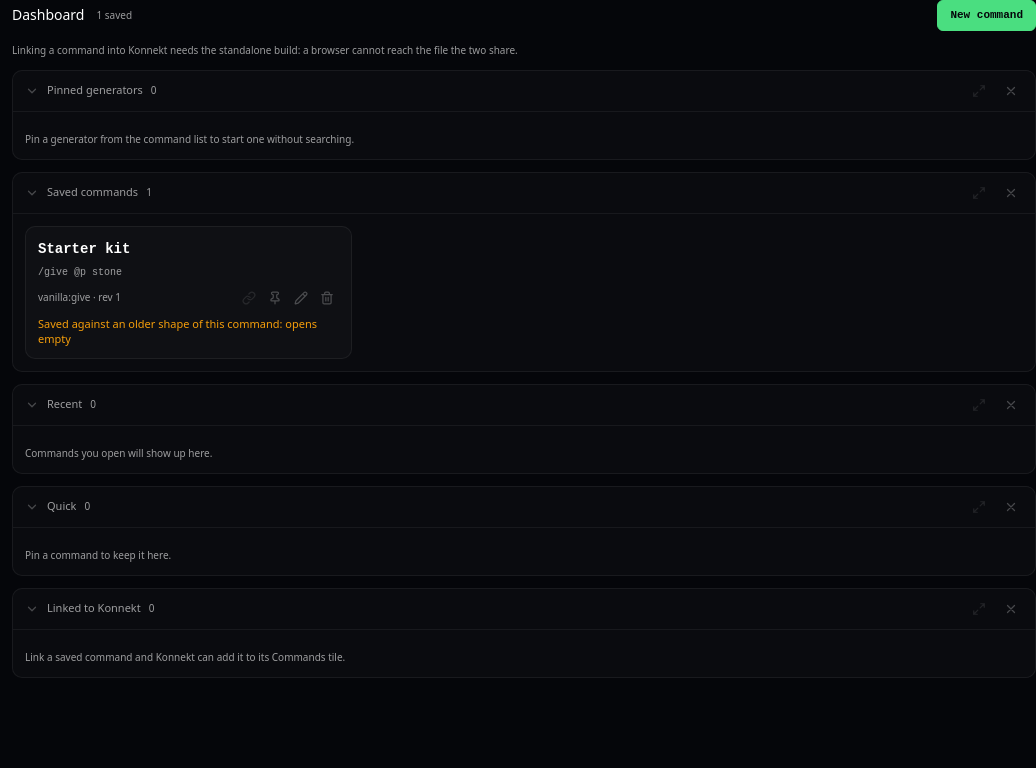
deleting a tile removes it from storage, not just from the screen
Click the button named "Delete Starter kit" at (327, 298), box [315,286,339,310]
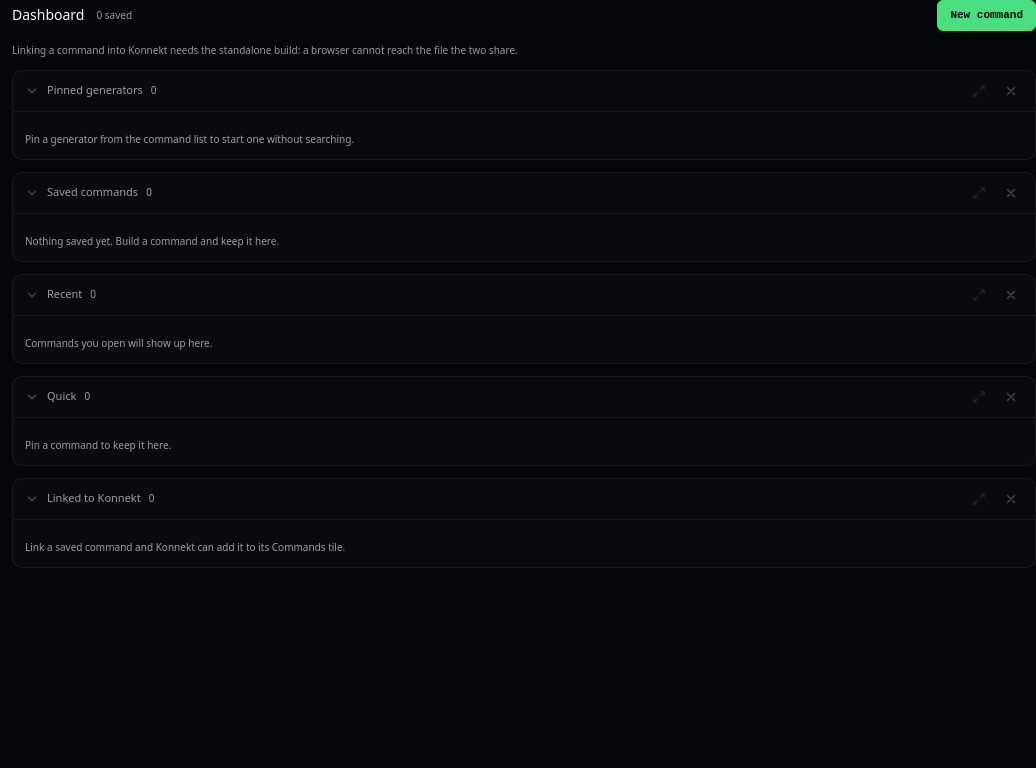
Now the list item "Starter kit /give @p stone vanilla:give · rev 1 Saved against an older shape of" is gone
